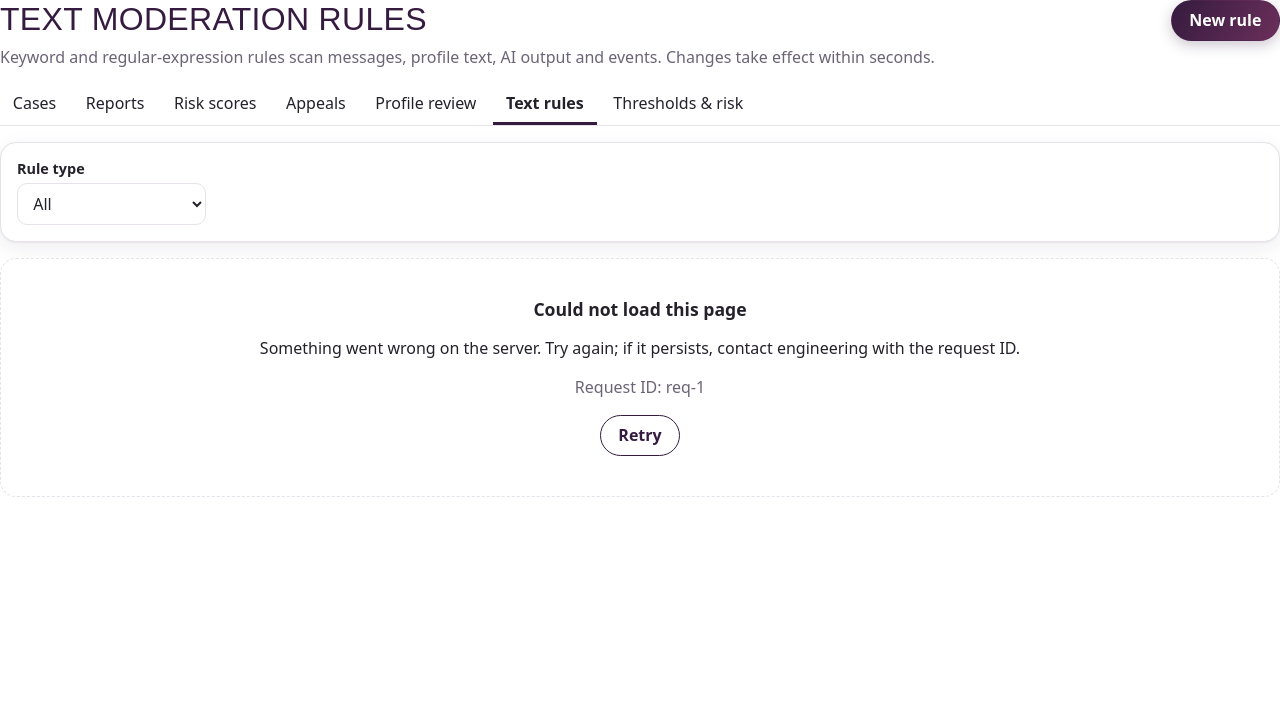
Test: RulesPage › shows the API error inside the confirmation and the page error state
expect the text "Something went wrong on the server. Try again; if it persists, contact engineering with the request ID." is shown: met, box left=260, top=336, right=1020, bottom=358
Click the button "Retry": point(640, 436) left=600, top=415, right=680, bottom=456
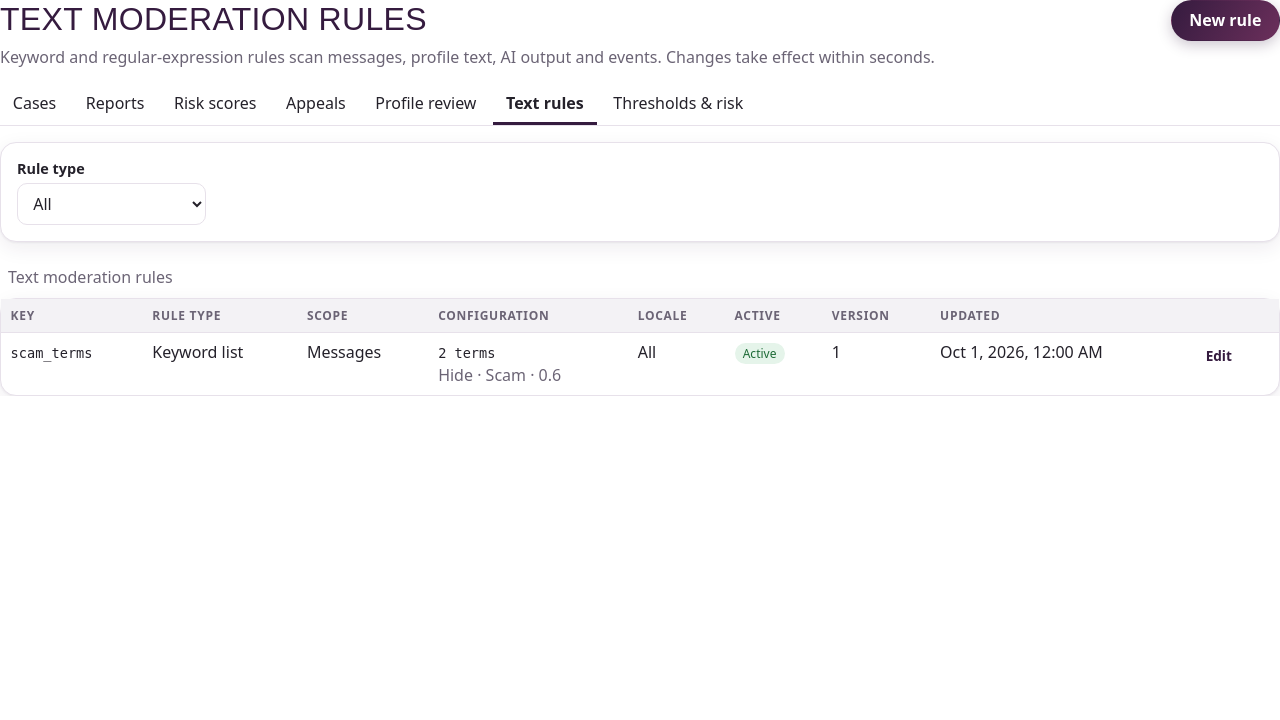
Click the button "Edit": point(1219, 356) left=1195, top=341, right=1242, bottom=371
(page scrolled)
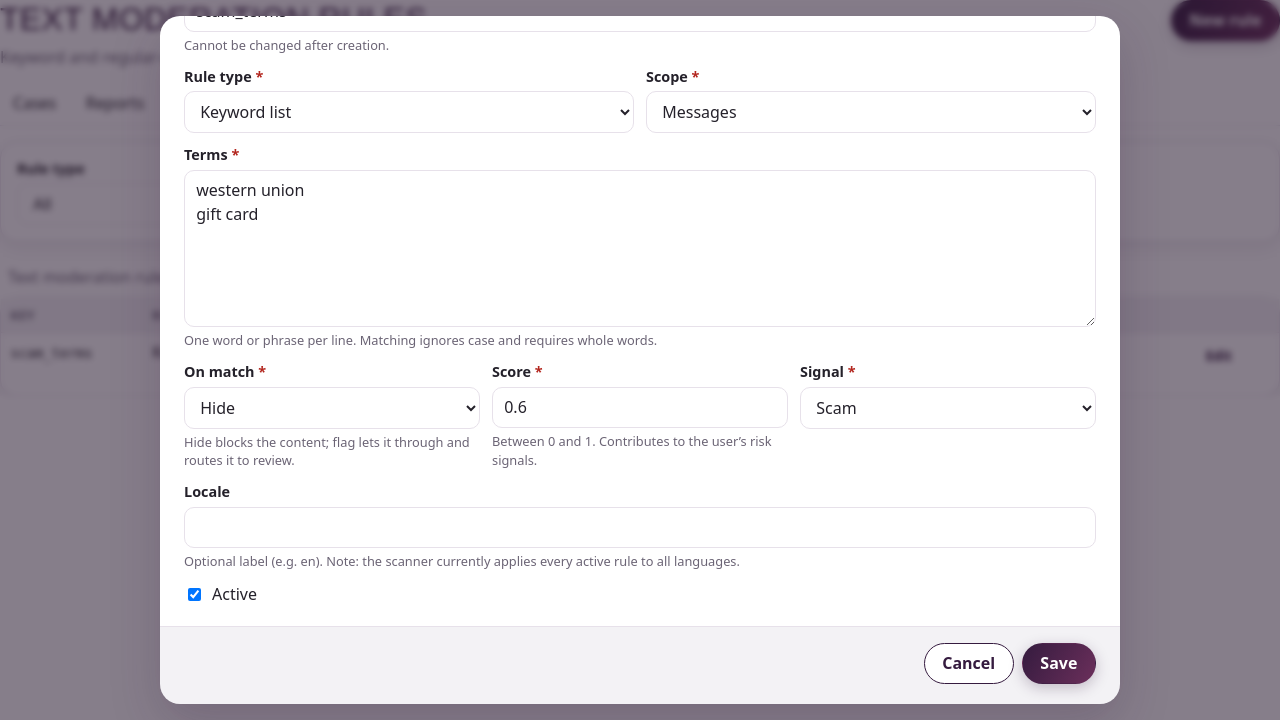
Click the button "Save": point(1059, 663) left=1022, top=643, right=1096, bottom=684
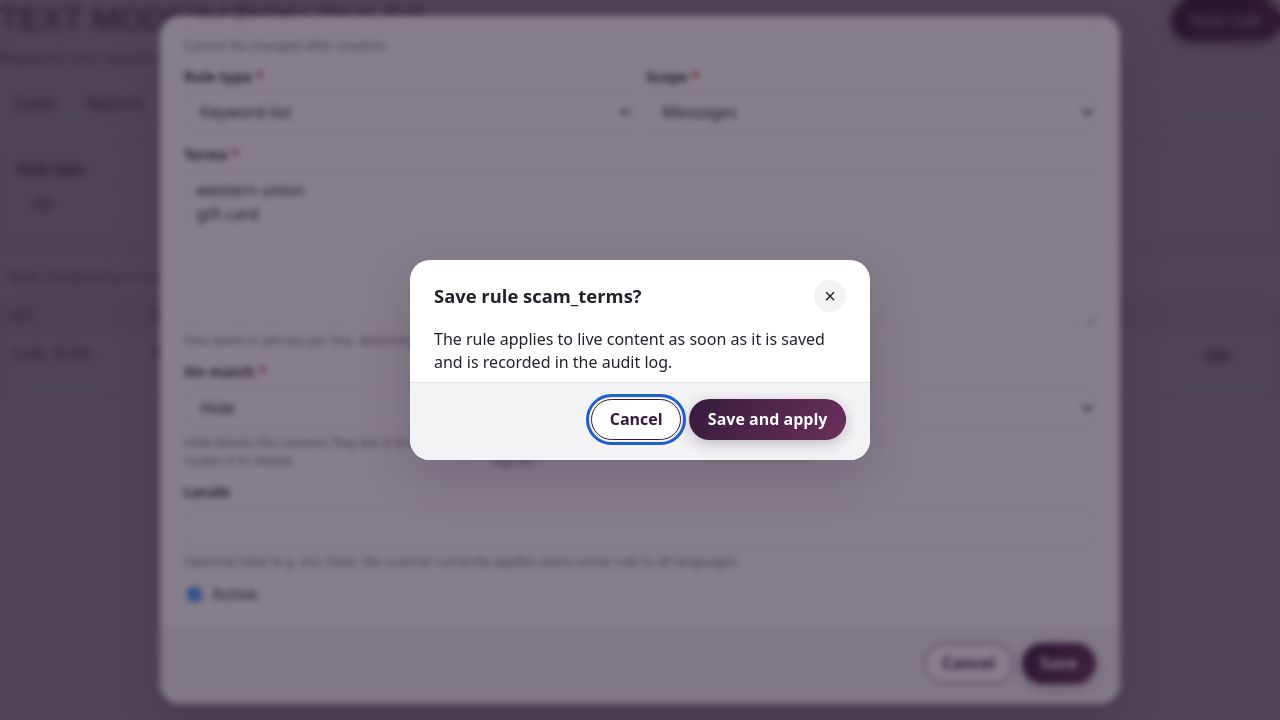
Click the button "Save and apply": point(768, 420) left=689, top=399, right=846, bottom=440
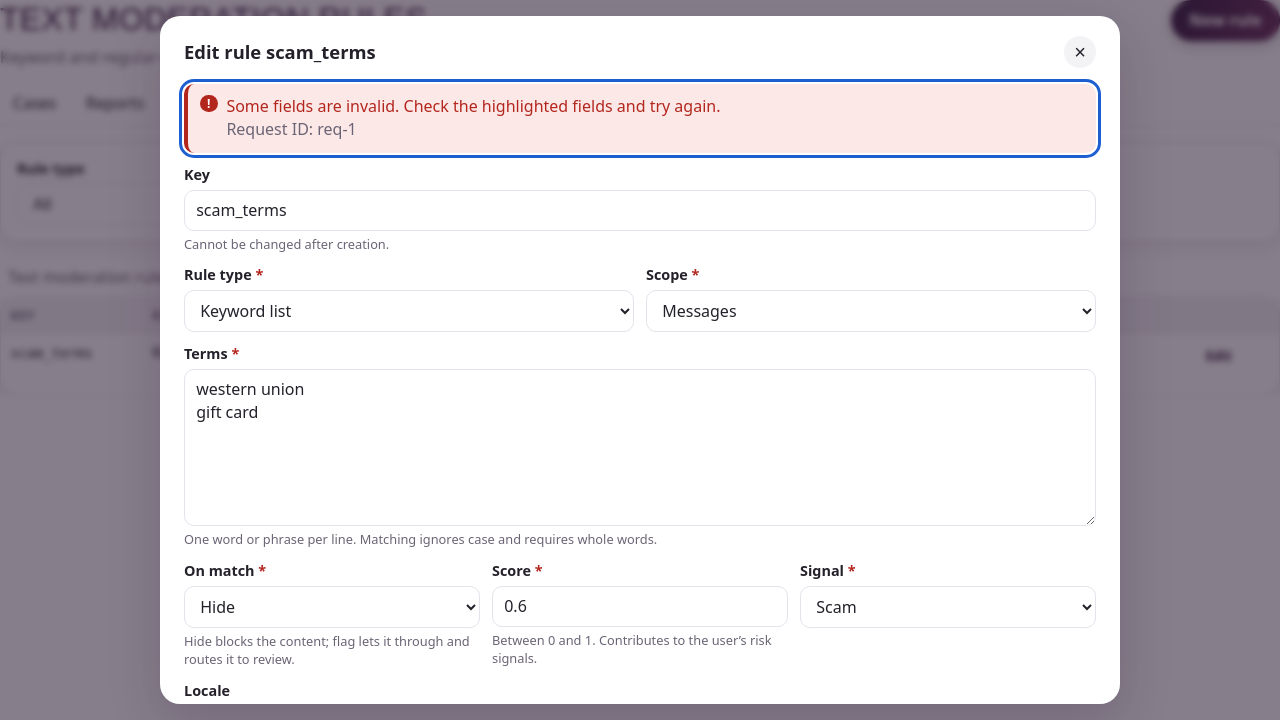
expect the text "Some fields are invalid. Check the highlighted fields and try again." is shown: met, box left=226, top=95, right=720, bottom=117
